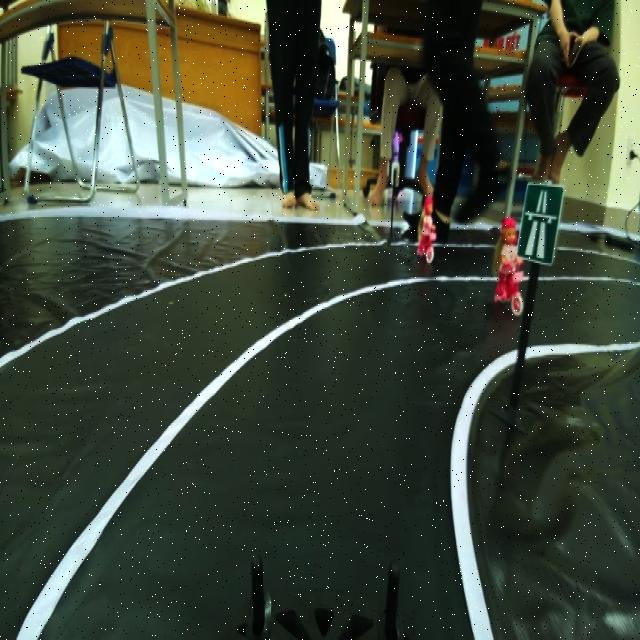highway_entry: (516, 181, 565, 274)
pedestrian: (491, 212, 528, 318)
